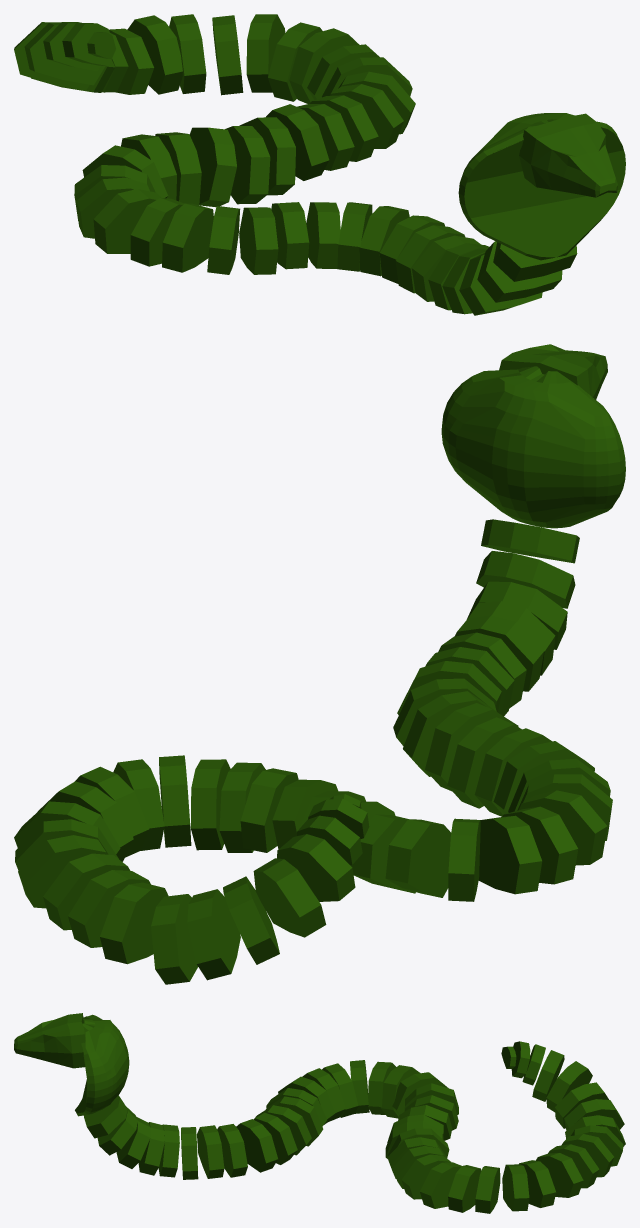
Rendered from NewSnake.fbx.
3 renders of one model, top to bottom at view 1: azimuth 30°, elevation 25°; view 2: azimuth 150°, elevation 25°; view 3: azimuth 270°, elevation 25°, orthographic. The views are drawn at different scales.
Visible parts, largest first — view 1: Neck, Mouth, Cube.023, Cube.015, Cube.024, Cube.017, Cube.038, Cube.013, Cube.026, Cube.025, Cube.035, Cube.016 (+36 smaller); view 2: Neck, Cube.019, Cube.021, Cube.038, Cube.042, Cube.040, Cube.039, Cube.043, Cube.002, Mouth, Cube.001, Cube.018 (+33 smaller); view 3: Neck, Mouth, Cube.009, Cube.035, Cube.030, Cube.031, Cube.008, Cube.007, Cube.034, Cube.033, Cube.042, Cube.010 (+35 smaller).
Part boxes in pixels (x1,y1,x2,y2): Neck: (458,113,625,260); Mouth: (519,113,617,197); Cube.023: (189,127,236,207); Cube.015: (162,203,213,272); Cube.024: (225,126,270,204); Cube.017: (93,189,161,253); Cube.038: (127,15,182,94); Cube.013: (239,207,278,274); Cube.026: (266,104,329,180); Cube.025: (239,117,295,195); Cube.035: (246,14,285,92); Cube.016: (130,197,184,266); Neck: (441,366,625,528); Cube.019: (478,815,542,894); Cube.021: (385,819,451,897); Cube.038: (100,882,168,964); Cube.042: (253,858,326,937); Cube.040: (187,889,240,980); Cube.039: (151,894,197,984); Cube.043: (277,834,355,901); Cube.002: (476,551,575,608); Mouth: (499,344,607,399); Cube.001: (481,519,579,563); Cube.018: (502,806,578,884); Neck: (75,1014,129,1116); Mouth: (14,1013,85,1068); Cube.009: (236,1119,277,1172); Cube.035: (536,1153,583,1197); Cube.030: (420,1162,461,1208); Cube.031: (448,1165,481,1212); Cube.008: (217,1124,247,1177); Cube.007: (197,1125,224,1178); Cube.034: (519,1160,556,1207); Cube.033: (502,1164,529,1211); Cube.042: (546,1061,592,1112); Cube.010: (253,1112,297,1164).
Bounding box in the file's own units: 1183 × 706 × 2370.
